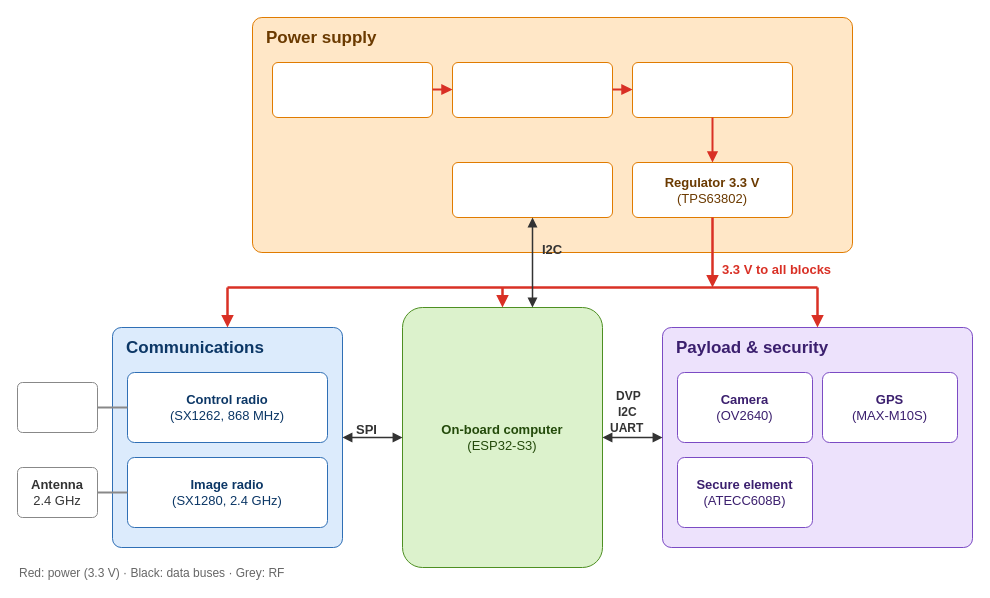
This 990x598 diagram has some shape labels left out. The centre of each missing label's shape, as x and y in pixels:
Antenna 868 MHz: (x=57, y=407)
Battery (LiPo 1000 mAh): (x=712, y=90)
Battery gauge (MAX17048): (x=532, y=190)
Charger (BQ24074): (x=532, y=90)
Solar panel (6 V, 1 W): (x=352, y=90)
